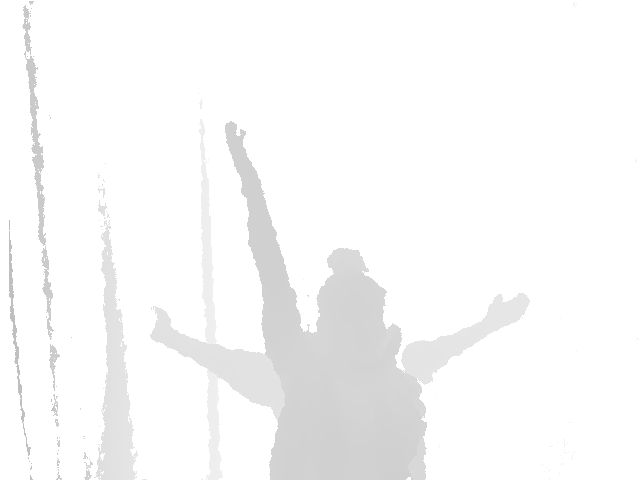hand: (484, 290, 532, 329)
head: (317, 248, 385, 350)
person: (224, 120, 427, 480), (146, 290, 532, 420)
